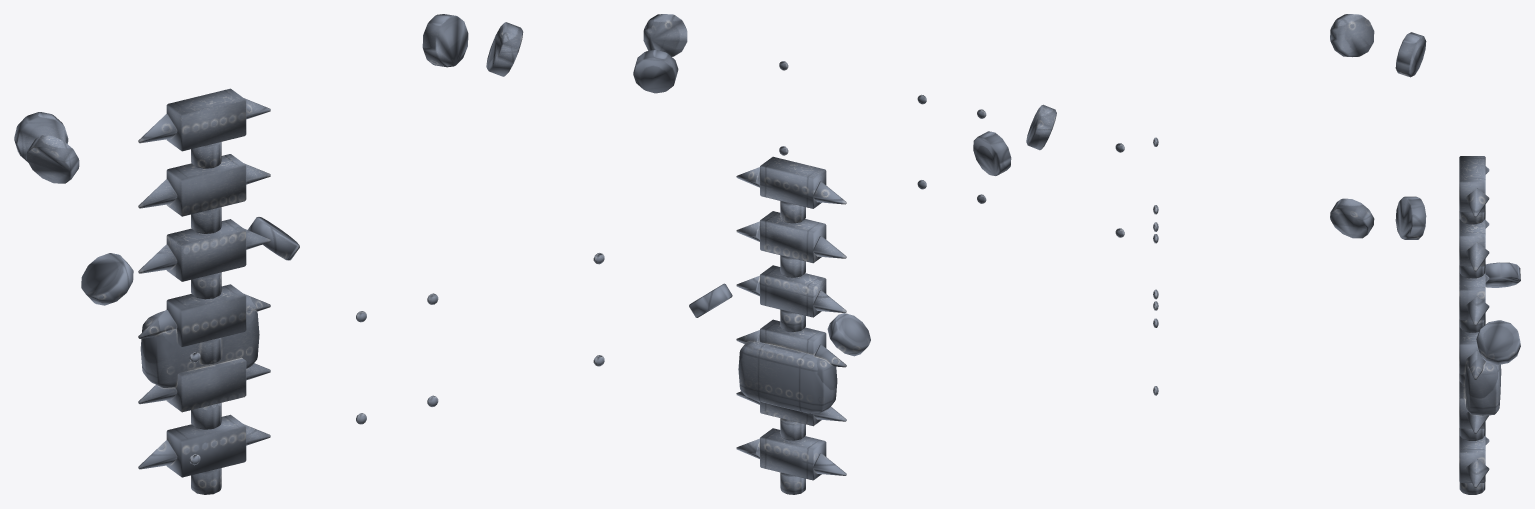
File: Remache_Arnes_Acero.fbx
3 renders of one model, left to right at view 1: azimuth 30°, elevation 25°; view 2: azimuth 150°, elevation 25°; view 3: azimuth 270°, elevation 25°, orthographic. The views are drawn at different scales.
Visible parts, largest first — view 1: Remache_Arnes_Acero; view 2: Remache_Arnes_Acero; view 3: Remache_Arnes_Acero.
Part boxes in pixels (x1=…): Remache_Arnes_Acero: x1=14, y1=14, x2=604, y2=494; Remache_Arnes_Acero: x1=633, y1=14, x2=1124, y2=494; Remache_Arnes_Acero: x1=1153, y1=14, x2=1520, y2=494.
Bounding box in the file's own units: 3.21 × 2.89 × 2.51.
